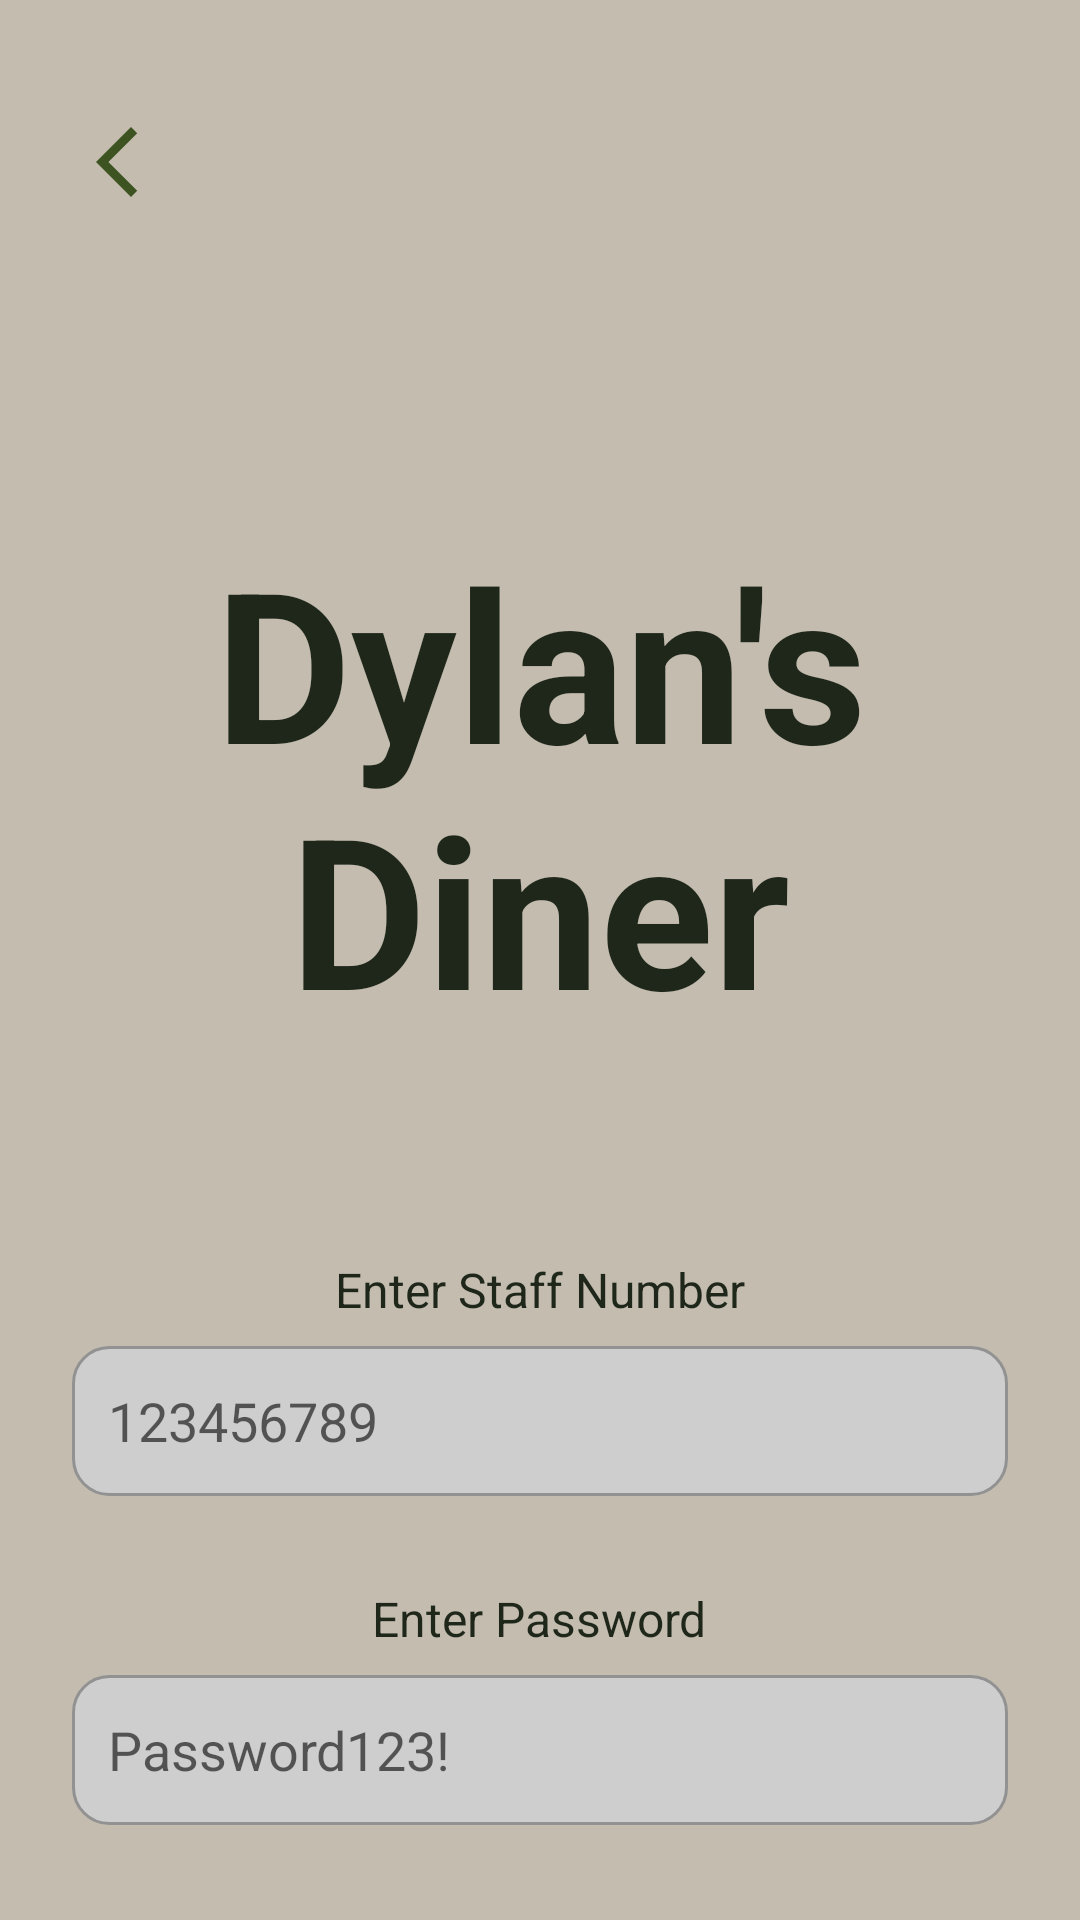

Locate icon controls on the screen. Image size 1080*1920, boxes as (x1, y1, x2, y2).
Back: (96, 127, 137, 197)
